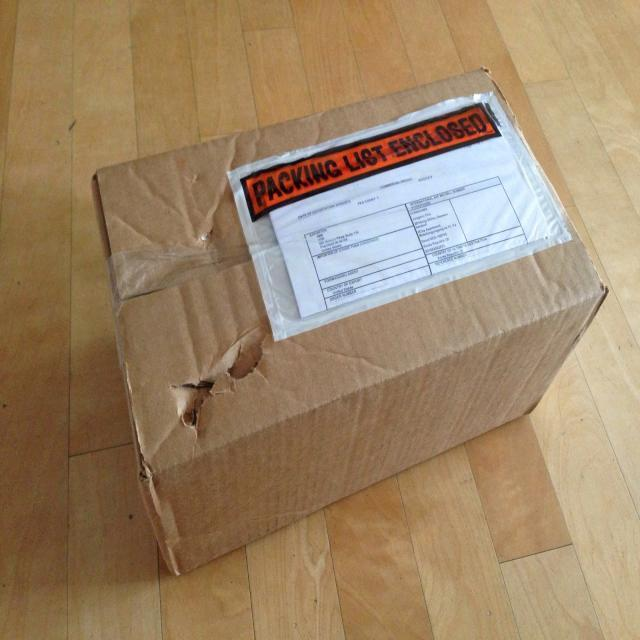damaged: (168, 367, 240, 434)
